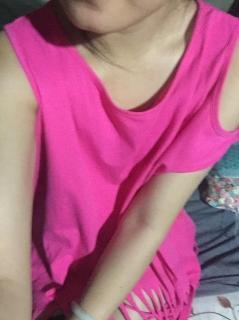short sleeve top: (3, 0, 239, 319)
